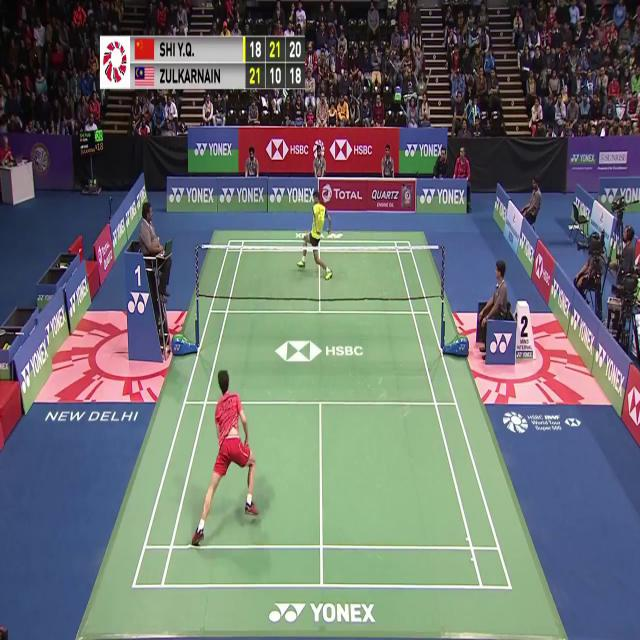Shuttlecock: (296, 197, 303, 208)
